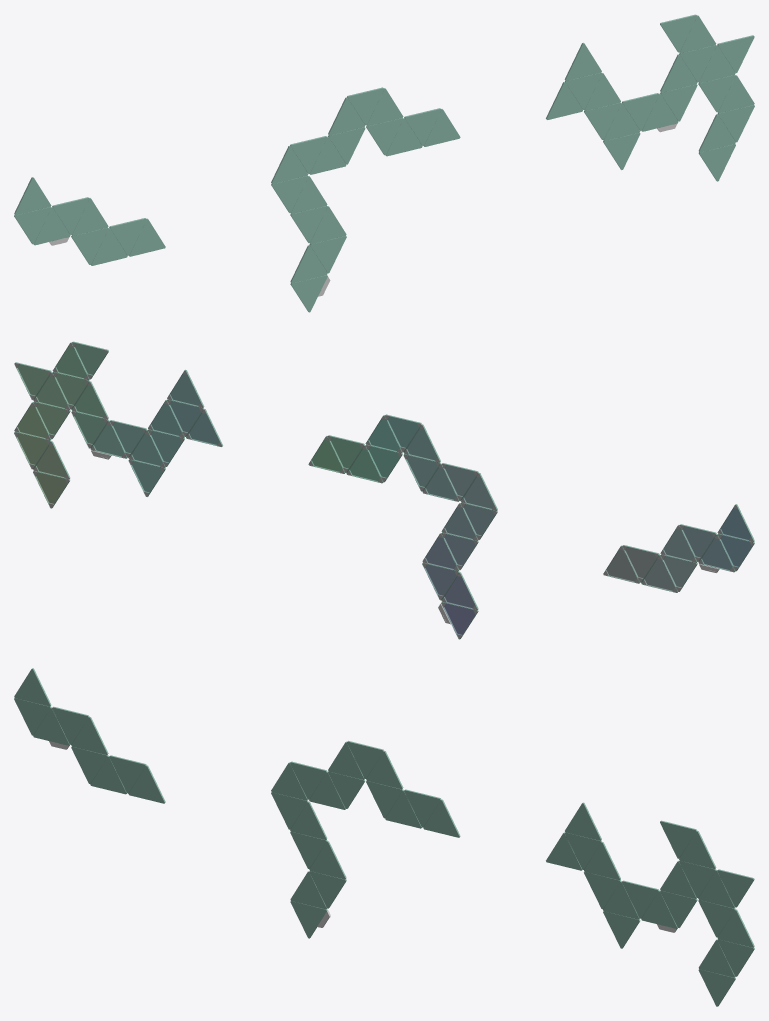
Rendered from ledmaybe3.fbx.
3 renders of one model, top to bottom at view 1: azimuth 30°, elevation 25°; view 2: azimuth 150°, elevation 25°; view 3: azimuth 330°, elevation 25°, orthographic.
Parts seen in each view (by area): view 1: Rectangle197, Rectangle221, Rectangle208, Rectangle233, Rectangle200, Rectangle207, Rectangle193, Rectangle195, Rectangle227, Rectangle203, Rectangle224, Rectangle222 (+36 smaller); view 2: Rectangle208, Rectangle197, Rectangle193, Rectangle200, Rectangle221, Rectangle233, Rectangle227, Rectangle195, Rectangle207, Rectangle222, Rectangle211, Rectangle224 (+84 smaller); view 3: Rectangle203, Rectangle220, Rectangle216, Rectangle205, Rectangle223, Rectangle229, Rectangle208, Rectangle212, Rectangle191, Rectangle199, Rectangle231, Rectangle195 (+36 smaller).
Boxes of the visible parts, <box> form: Rectangle197: <box>660,54,697,92</box>; Rectangle221: <box>328,97,364,135</box>; Rectangle208: <box>14,177,51,215</box>; Rectangle233: <box>290,245,327,283</box>; Rectangle200: <box>660,14,697,52</box>; Rectangle207: <box>698,114,735,152</box>; Rectangle193: <box>546,82,582,119</box>; Rectangle195: <box>564,42,601,80</box>; Rectangle227: <box>271,146,308,183</box>; Rectangle203: <box>717,35,754,72</box>; Rectangle224: <box>290,136,327,173</box>; Rectangle222: <box>347,87,384,125</box>; Rectangle208: <box>717,504,754,542</box>; Rectangle197: <box>71,381,108,419</box>; Rectangle193: <box>186,409,222,446</box>; Rectangle200: <box>71,341,108,379</box>; Rectangle221: <box>404,424,440,462</box>; Rectangle233: <box>441,572,478,610</box>; Rectangle227: <box>460,473,497,510</box>; Rectangle195: <box>167,369,204,407</box>; Rectangle207: <box>33,441,70,479</box>; Rectangle222: <box>384,414,421,452</box>; Rectangle211: <box>679,524,716,561</box>; Rectangle224: <box>441,463,478,500</box>; Rectangle203: <box>717,869,754,907</box>; Rectangle220: <box>423,799,460,837</box>; Rectangle216: <box>128,765,165,803</box>; Rectangle205: <box>717,909,754,947</box>; Rectangle223: <box>366,751,403,789</box>; Rectangle229: <box>290,801,327,839</box>; Rectangle208: <box>14,668,51,706</box>; Rectangle212: <box>71,717,108,754</box>; Rectangle191: <box>584,842,620,880</box>; Rectangle199: <box>679,831,716,868</box>; Rectangle231: <box>309,841,346,879</box>; Rectangle195: <box>565,802,601,840</box>.
Size of the model in its own units: 470 by 125 by 1.78.
